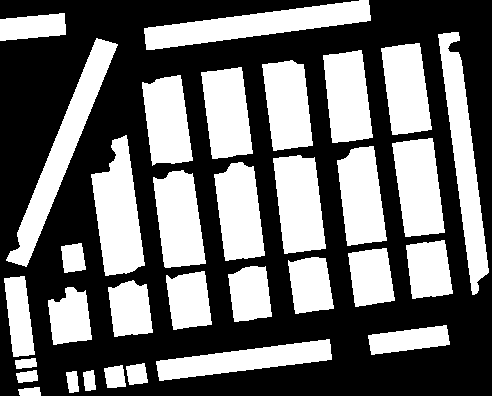parkingspot: (6, 38, 117, 266), (438, 32, 488, 294), (144, 0, 370, 49), (156, 339, 331, 380), (109, 135, 144, 273), (91, 171, 126, 275), (273, 156, 307, 253), (392, 140, 425, 236), (172, 170, 205, 265), (412, 138, 444, 234), (354, 146, 386, 242), (232, 162, 264, 258), (153, 171, 185, 267), (293, 155, 325, 250), (214, 163, 245, 260), (337, 148, 367, 245), (262, 62, 294, 150), (220, 67, 252, 155), (160, 75, 192, 163), (400, 43, 431, 132), (381, 45, 412, 134), (323, 53, 354, 142), (201, 70, 232, 158), (342, 50, 372, 140), (281, 60, 312, 147), (142, 78, 172, 165), (4, 276, 34, 356), (368, 325, 449, 354), (0, 13, 65, 40), (425, 240, 452, 296), (406, 242, 433, 298), (348, 250, 375, 306), (367, 248, 394, 303), (288, 258, 315, 313), (306, 257, 333, 310), (185, 271, 211, 326), (166, 274, 192, 329), (126, 280, 152, 334), (108, 282, 134, 336), (65, 287, 91, 341), (245, 266, 271, 318), (228, 267, 253, 321), (48, 298, 72, 344), (61, 243, 85, 272), (104, 365, 125, 387), (126, 363, 147, 384), (16, 370, 37, 382), (66, 371, 78, 392), (83, 370, 95, 390), (15, 358, 36, 368), (18, 387, 40, 396)
